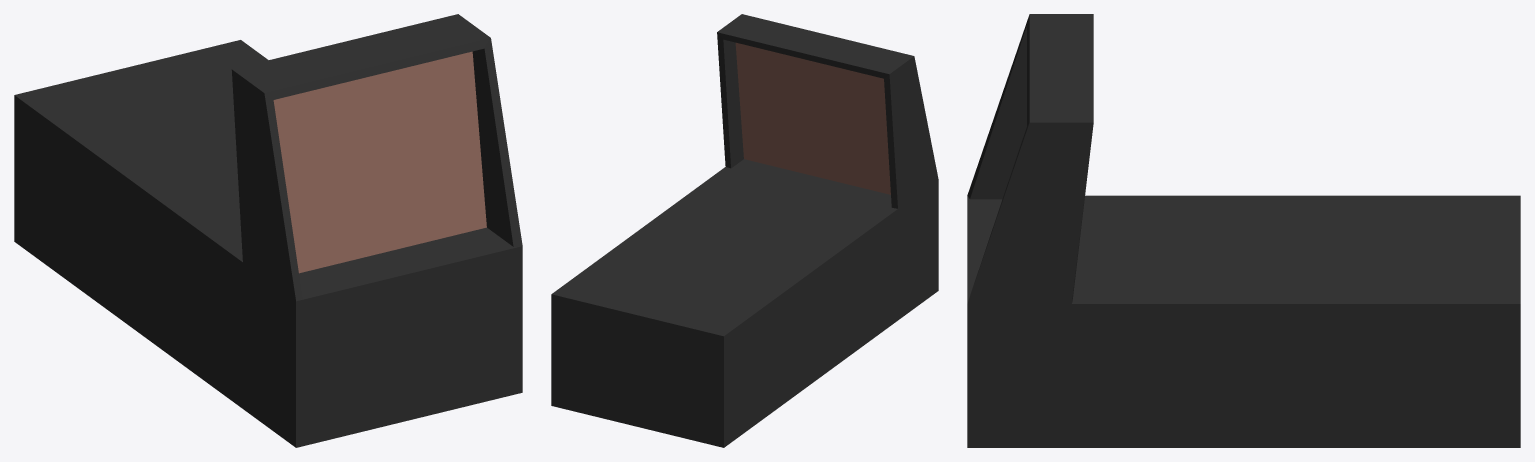
The model's file is Reflex_Sight.fbx.
The picture shows the model from 3 angles, left to right: view 1: azimuth 30°, elevation 25°; view 2: azimuth 150°, elevation 25°; view 3: azimuth 270°, elevation 25°; orthographic projection. The views are drawn at different scales.
Visible parts, largest first — view 1: Reflex_Sight; view 2: Reflex_Sight; view 3: Reflex_Sight.
Part boxes in pixels (<box>): Reflex_Sight: <box>14,14,522,447</box>; Reflex_Sight: <box>551,14,938,447</box>; Reflex_Sight: <box>967,14,1520,447</box>.
Size of the model in its own units: 4.32 by 6.04 by 9.3.
